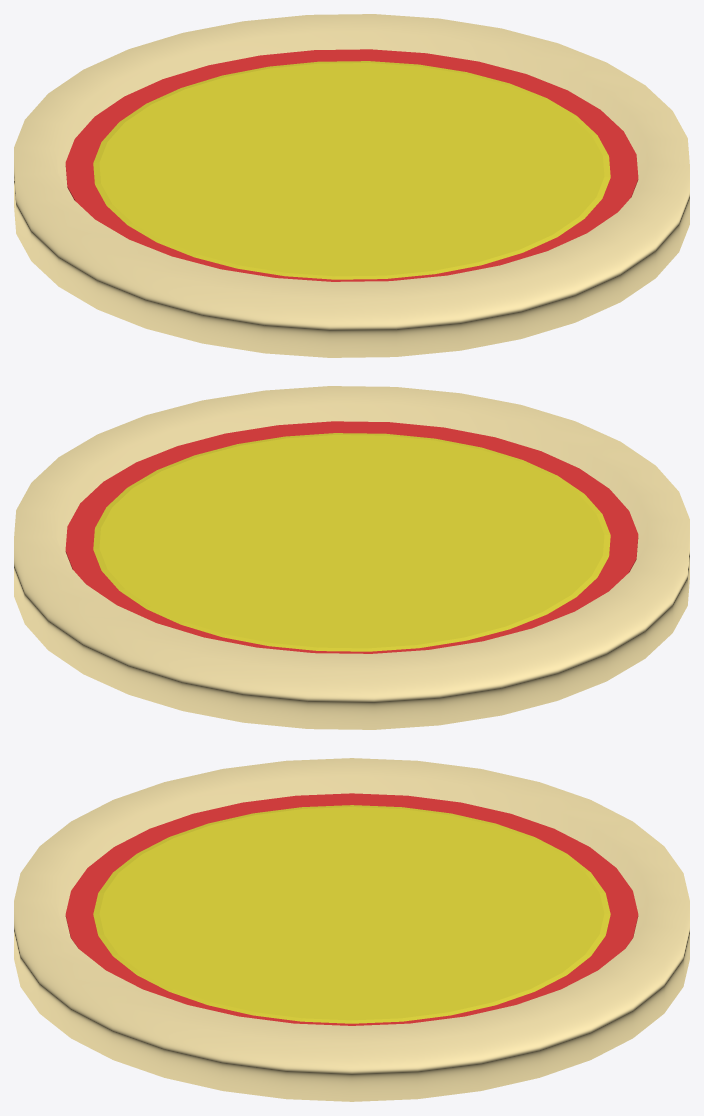
Rendered from FlattenedDoughCheese.glb.
The picture shows the model from 3 angles, top to bottom: view 1: azimuth 30°, elevation 25°; view 2: azimuth 150°, elevation 25°; view 3: azimuth 270°, elevation 25°; orthographic projection.
Visible parts, largest first — view 1: Sauce, Dough, Sauce.001; view 2: Sauce, Dough, Sauce.001; view 3: Sauce, Dough, Sauce.001.
Part boxes in pixels (left/top/right/bottom): Sauce: left=93, top=61, right=610, bottom=279; Dough: left=14, top=14, right=689, bottom=357; Sauce.001: left=65, top=49, right=638, bottom=281; Sauce: left=93, top=433, right=610, bottom=651; Dough: left=14, top=386, right=689, bottom=729; Sauce.001: left=65, top=421, right=638, bottom=653; Sauce: left=93, top=805, right=610, bottom=1023; Dough: left=14, top=758, right=689, bottom=1101; Sauce.001: left=65, top=793, right=638, bottom=1025.
Size of the model in its own units: 2 by 0.1899 by 2.
